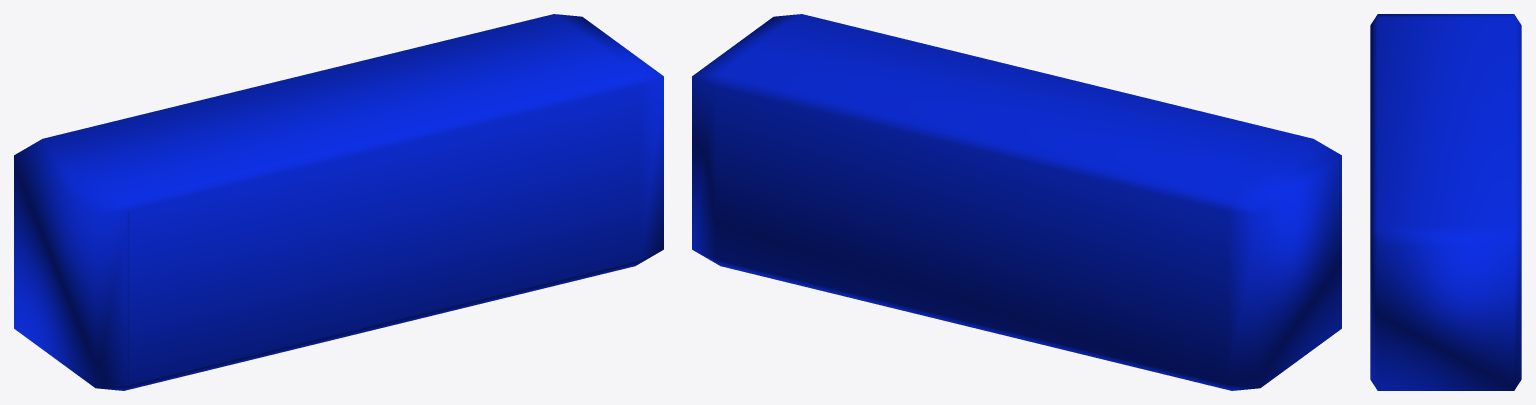
Rendered from Brick_03.obj.
3 views of the same model, side by side, from view 1: azimuth 30°, elevation 25°; view 2: azimuth 150°, elevation 25°; view 3: azimuth 270°, elevation 25° (orthographic). The views are drawn at different scales.
Parts seen in each view (by area): view 1: Cube_Paddle; view 2: Cube_Paddle; view 3: Cube_Paddle.
Boxes of the visible parts, x1,y1,x2,y2 form: Cube_Paddle: [14, 14, 663, 390]; Cube_Paddle: [692, 14, 1341, 390]; Cube_Paddle: [1370, 14, 1521, 390].
Bounding box in the file's own units: 7.25 × 2.34 × 2.
1 material, 1 textured.
